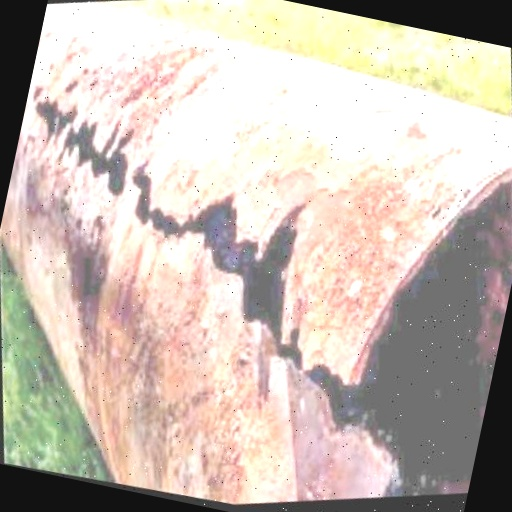corrosion: (274, 185, 512, 303)
crack: (71, 130, 420, 506), (70, 98, 291, 370), (36, 74, 190, 316)
